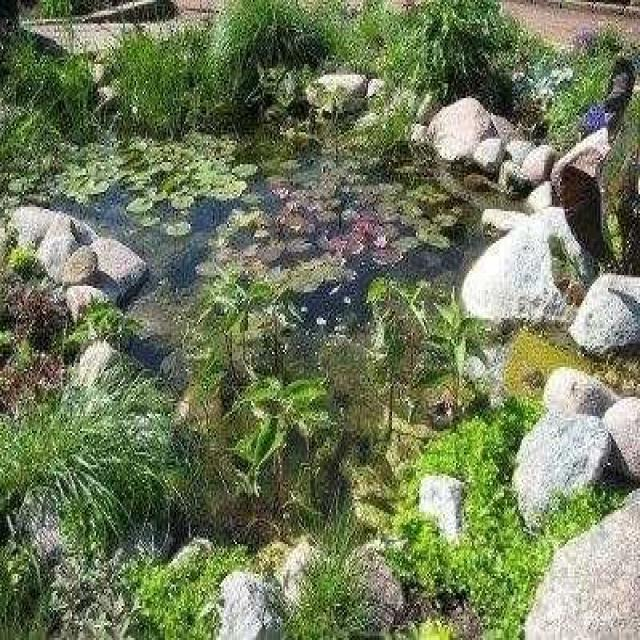Ponds: (14, 67, 640, 632)
